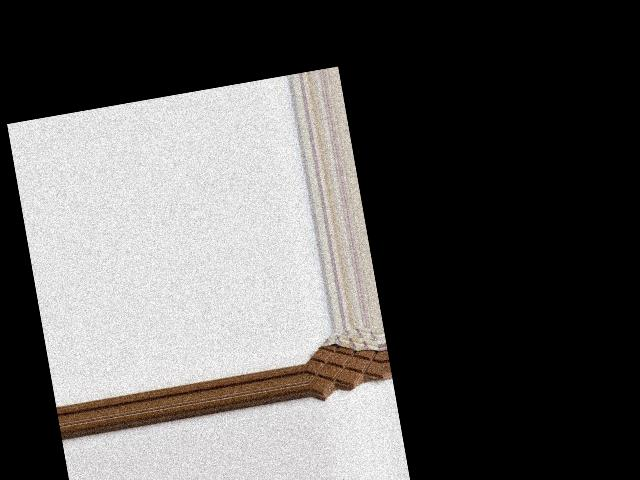chocolate: (302, 325, 386, 397)
